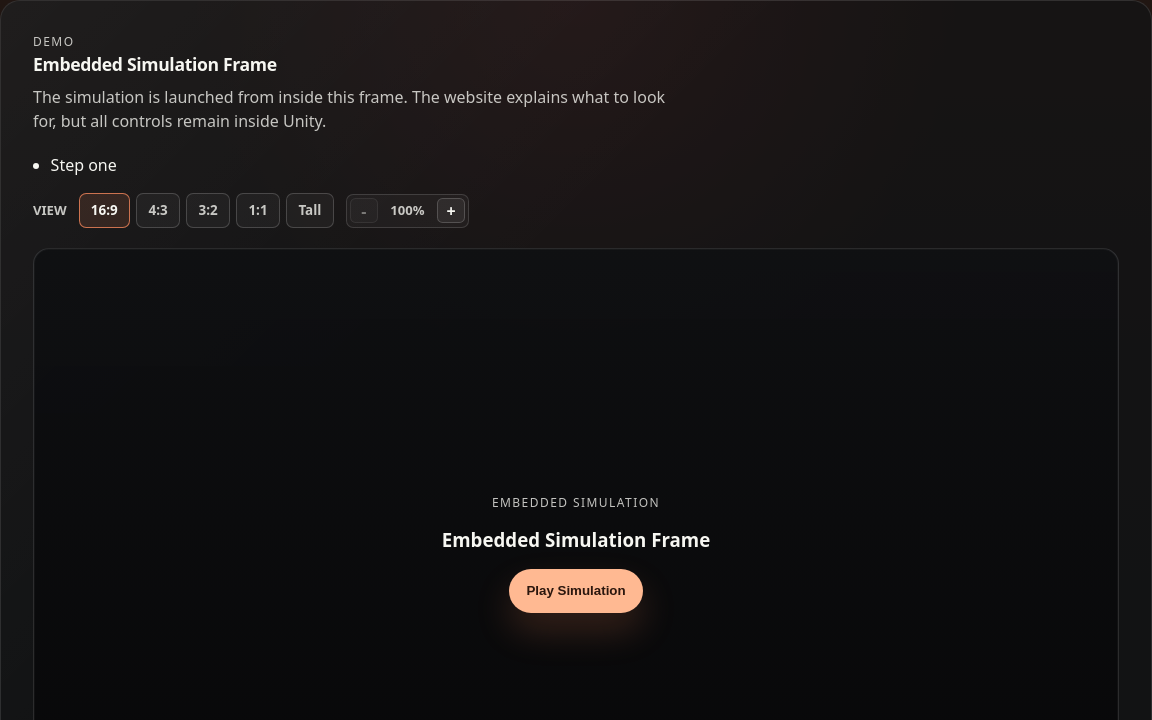
Test: unity embed › falls back when the loader rejects
Click the button "Play Simulation". click: click(576, 591)
box: [509, 569, 643, 613]
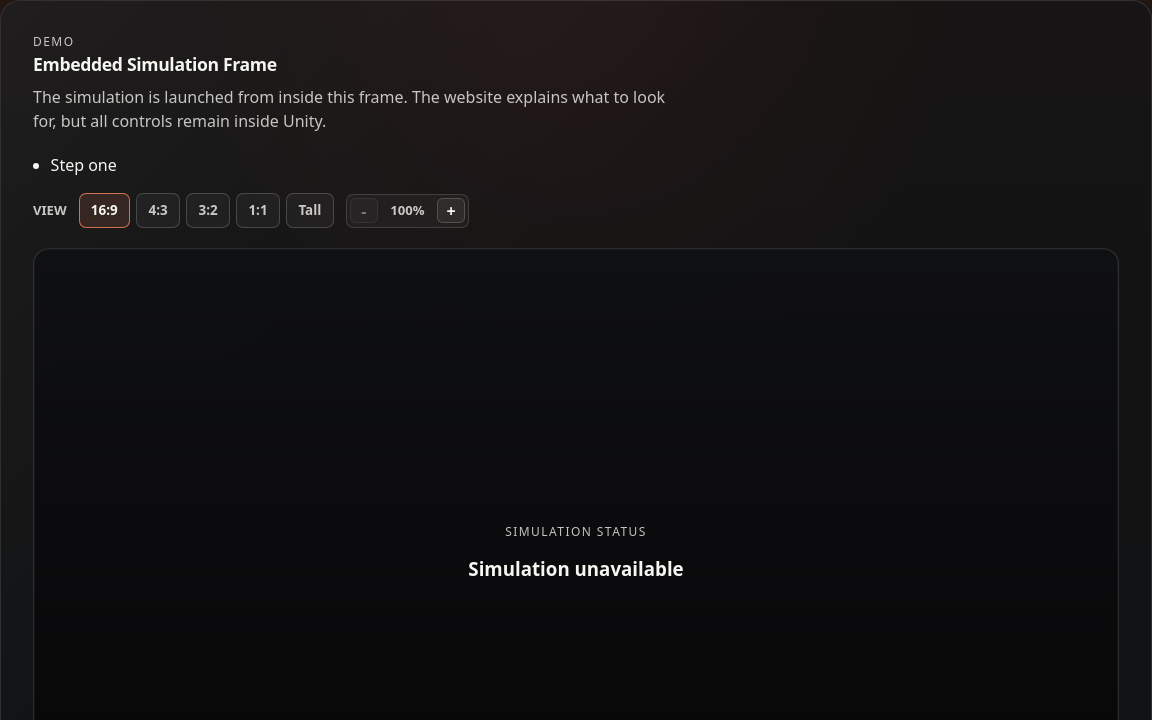
Now the heading "Simulation unavailable" is shown, box [468, 555, 684, 583]
